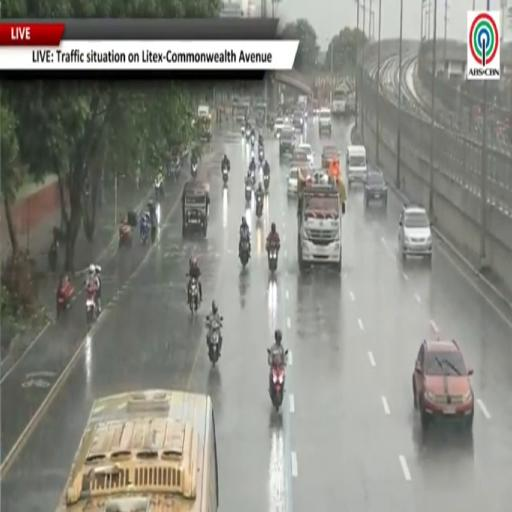bus: (57, 391, 218, 511), (331, 86, 348, 117)
car: (413, 341, 474, 429), (399, 204, 432, 262), (364, 169, 387, 207), (280, 125, 294, 155), (298, 143, 314, 168), (292, 149, 311, 169), (322, 146, 339, 168), (318, 108, 331, 136), (288, 167, 299, 196), (292, 109, 304, 132), (273, 118, 284, 137)
jeepney: (182, 181, 209, 236), (198, 114, 212, 141), (235, 102, 249, 123), (255, 103, 266, 126)
motorcycle: (270, 364, 284, 411), (57, 279, 74, 317), (207, 324, 221, 365), (86, 287, 97, 328), (188, 279, 199, 314), (48, 239, 58, 271), (119, 224, 132, 248), (240, 240, 250, 266), (268, 247, 278, 273), (255, 194, 264, 220), (154, 180, 163, 200), (141, 221, 148, 245), (151, 223, 157, 244), (245, 184, 252, 202), (222, 168, 228, 185), (191, 164, 197, 179), (264, 174, 269, 191), (259, 148, 264, 164), (250, 135, 255, 146), (252, 170, 255, 186), (246, 128, 250, 140), (241, 126, 245, 136)
tricycle: (57, 275, 74, 317), (118, 223, 133, 248)
truck: (298, 180, 342, 273), (331, 85, 348, 117), (197, 105, 212, 141)
